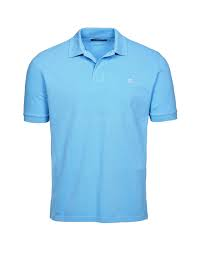S_polo shirt: (21, 31, 177, 214)
